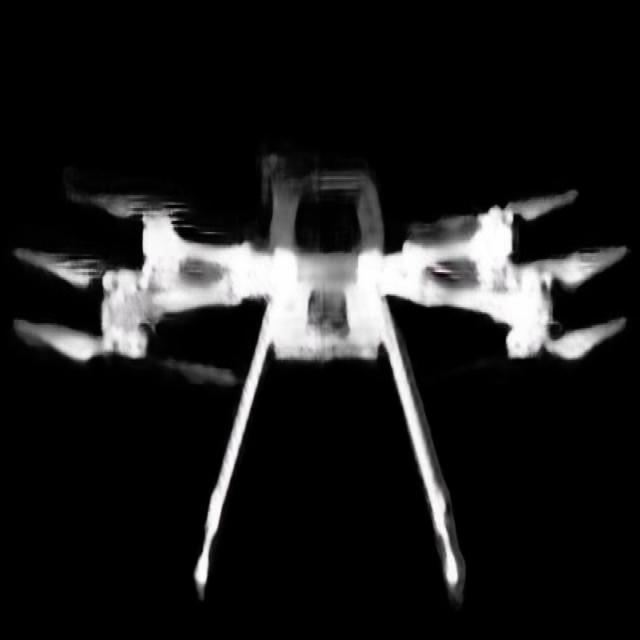drone: (13, 92, 631, 624)
